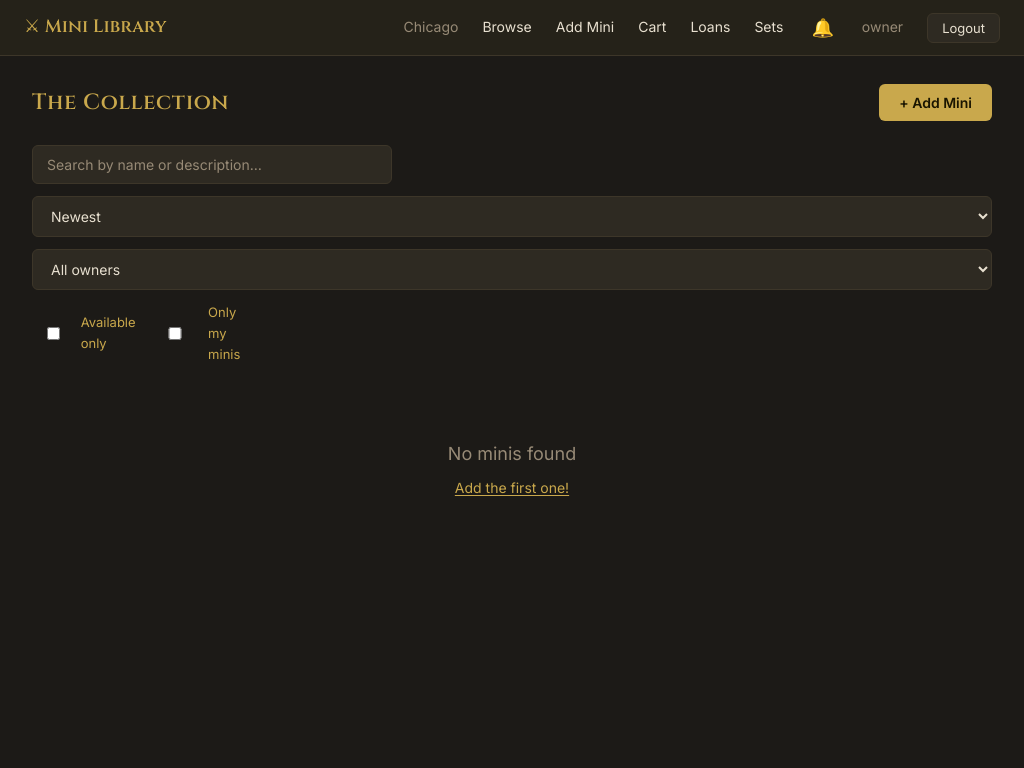
Test: App — phone notifications › lets the server forget this device before the session ends on sign-out
Step 1. Click the button "Logout" → point(964, 28), box [927,12,1000,42]
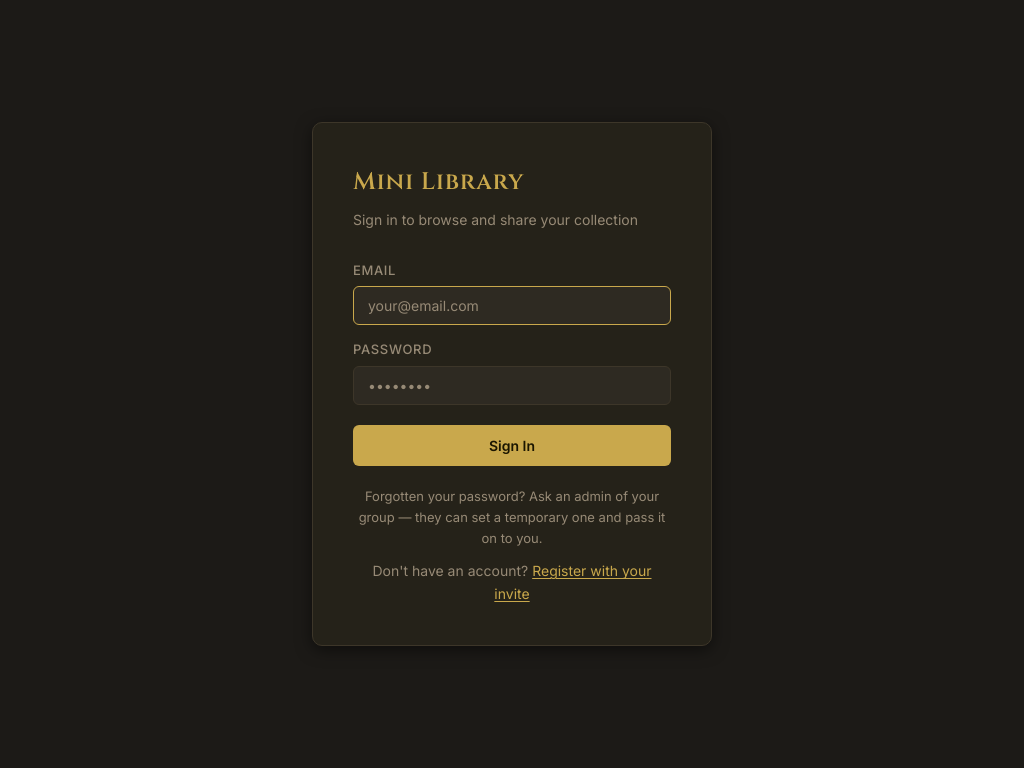
Check: the button "Sign In" is shown, box [353,425,671,466]
